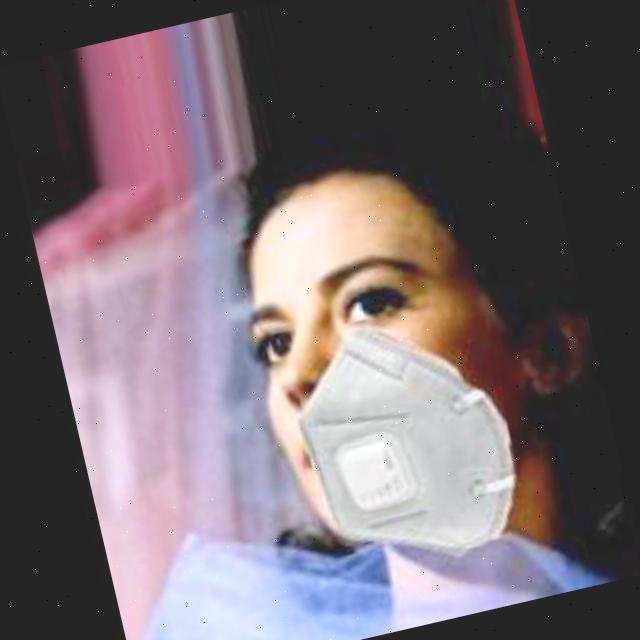suspicion: (160, 170, 577, 580)
